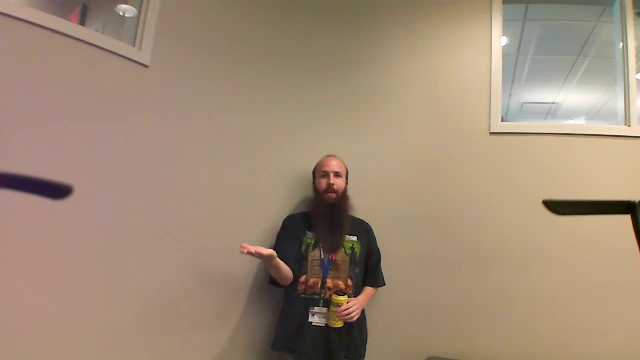land: (219, 231, 282, 267)
